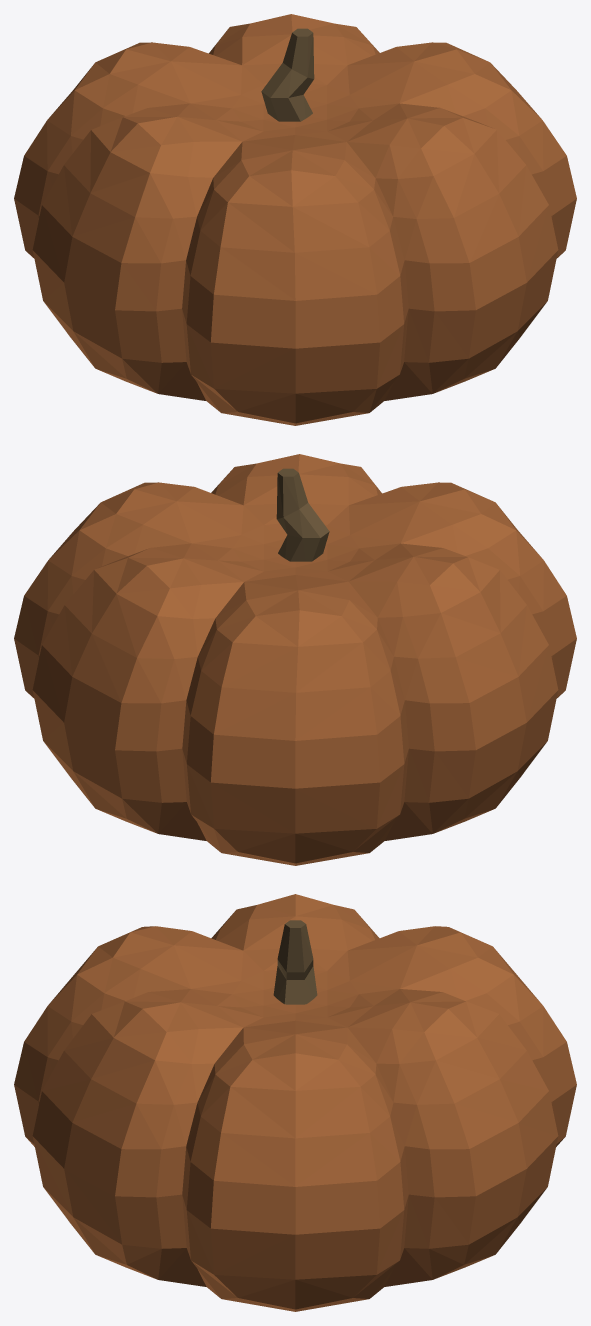
The model's file is pumpkin.glb.
The picture shows the model from 3 angles, top to bottom: view 1: azimuth 30°, elevation 25°; view 2: azimuth 150°, elevation 25°; view 3: azimuth 270°, elevation 25°; orthographic projection.
Visible parts, largest first — view 1: Pumpkin; view 2: Pumpkin; view 3: Pumpkin.
Boxes of the visible parts, bbox=[...] form: Pumpkin: bbox=[14, 14, 576, 425]; Pumpkin: bbox=[14, 454, 576, 865]; Pumpkin: bbox=[14, 894, 576, 1311].
Bounding box in the file's own units: 1.5 × 0.9309 × 1.51.
